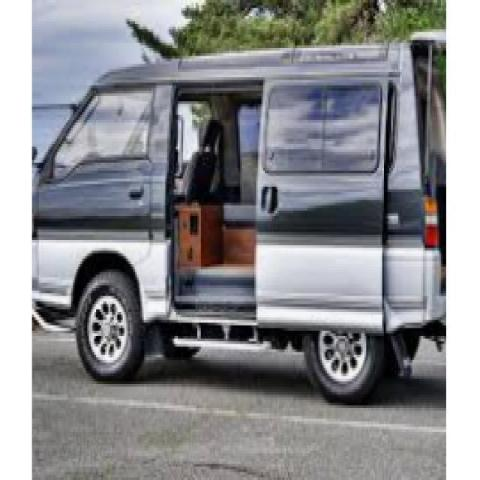van: (30, 33, 446, 404)
